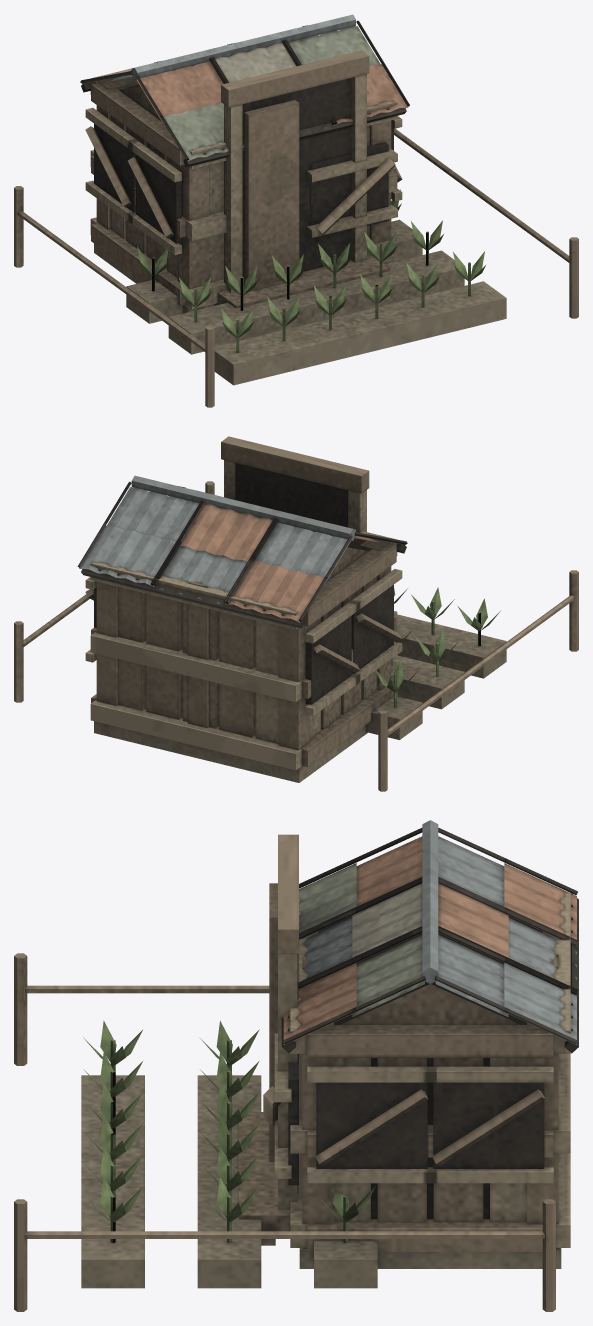
File: FoodGarden.fbx
3 renders of one model, top to bottom at view 1: azimuth 30°, elevation 25°; view 2: azimuth 150°, elevation 25°; view 3: azimuth 270°, elevation 25°, orthographic. The views are drawn at different scales.
Visible parts, largest first — view 1: FoodGarden; view 2: FoodGarden; view 3: FoodGarden.
Part boxes in pixels (<box>): FoodGarden: <box>14,14,578,407</box>; FoodGarden: <box>14,436,578,791</box>; FoodGarden: <box>14,820,578,1311</box>.
Bounding box in the file's own units: 2.24 × 1.33 × 2.14.
1 material, 1 textured.
